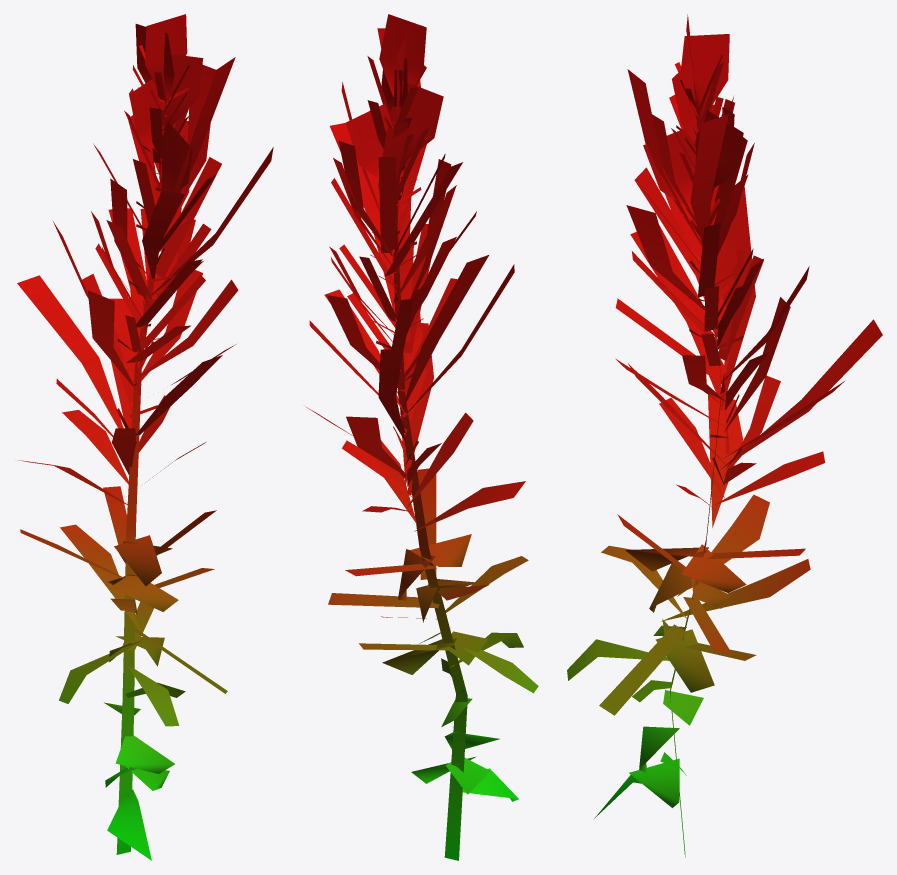
Rendered from Var2_LOD2.fbx.
3 renders of one model, left to right at view 1: azimuth 30°, elevation 25°; view 2: azimuth 150°, elevation 25°; view 3: azimuth 270°, elevation 25°, orthographic. The views are drawn at different scales.
Parts seen in each view (by area): view 1: _ef75_Var2_LOD2; view 2: _ef75_Var2_LOD2; view 3: _ef75_Var2_LOD2.
Boxes of the visible parts, bbox=[...] form: _ef75_Var2_LOD2: bbox=[17, 14, 273, 860]; _ef75_Var2_LOD2: bbox=[305, 14, 538, 860]; _ef75_Var2_LOD2: bbox=[567, 14, 882, 857].
Size of the model in its own units: 39.68 by 141 by 47.12.
